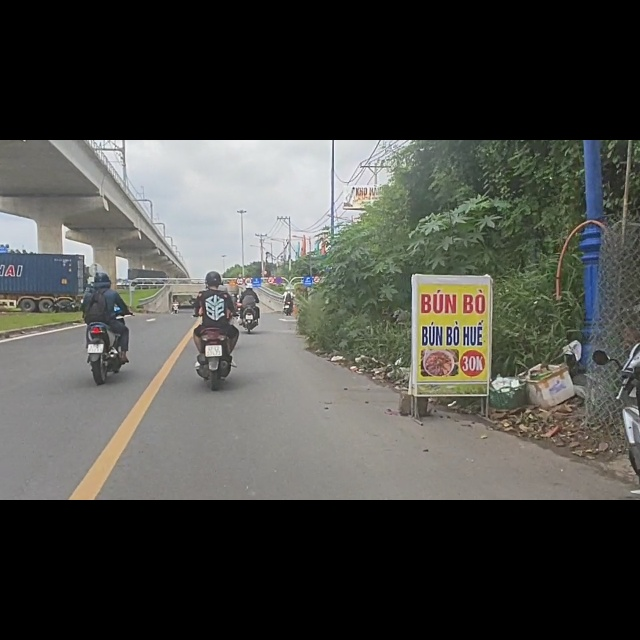bien_nguy_hiem: (313, 239, 321, 254), (267, 242, 275, 256), (275, 243, 283, 257), (236, 243, 243, 258), (245, 244, 252, 258)
